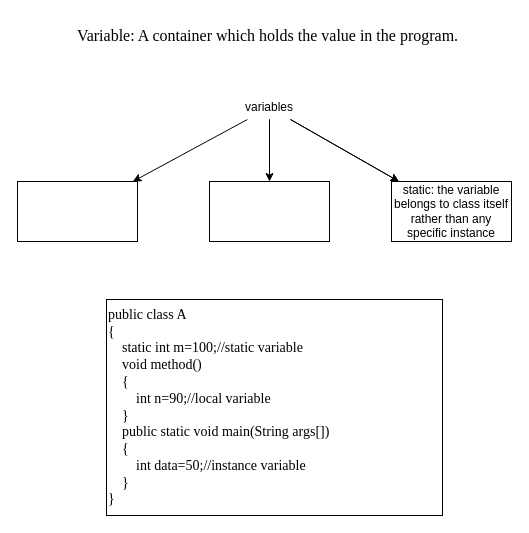
Some shapes in this 529 by 533 pixel diagram are drawn without their labels. Each missing label, with the centre of its shape:
"instance: Inside class but outside body of method" belongs at [269,211].
"local: declared inside body of method, can use only within method" belongs at [77,211].
